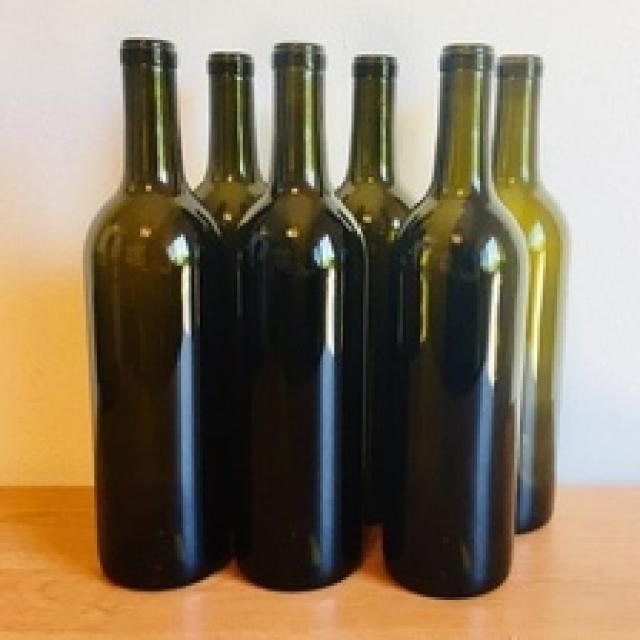Glass: (85, 34, 228, 596), (231, 42, 367, 595), (385, 45, 518, 602), (488, 54, 571, 536)
